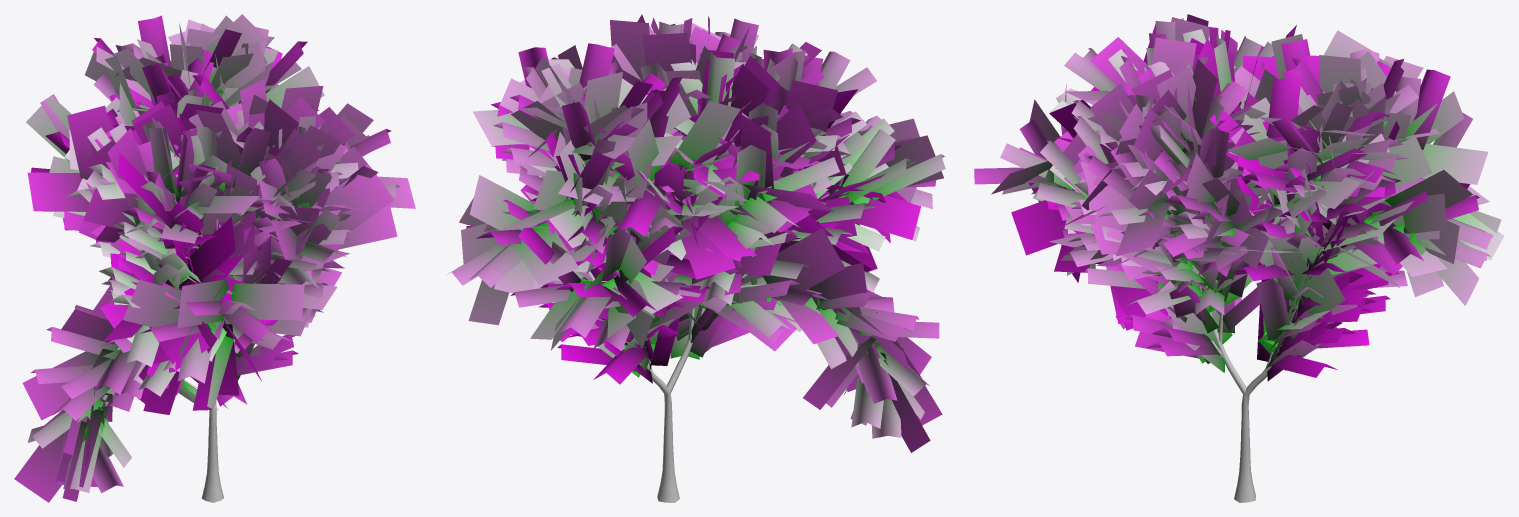
File: rowan_05.fbx
The picture shows the model from 3 angles, left to right: view 1: azimuth 30°, elevation 25°; view 2: azimuth 150°, elevation 25°; view 3: azimuth 270°, elevation 25°; orthographic projection. The views are drawn at different scales.
Visible parts, largest first — view 1: rowan_leaves_05_shadow, rowan_leaves_05_lod0, rowan_tree_05_lod0; view 2: rowan_leaves_05_shadow, rowan_leaves_05_lod0, rowan_tree_05_lod0; view 3: rowan_leaves_05_lod0, rowan_leaves_05_shadow, rowan_tree_05_lod0.
Part boxes in pixels (box(x1,y1,x2,y2)): rowan_leaves_05_shadow: box(14, 14, 415, 502); rowan_leaves_05_lod0: box(27, 15, 400, 493); rowan_tree_05_lod0: box(117, 101, 223, 502); rowan_leaves_05_shadow: box(459, 14, 943, 452); rowan_leaves_05_lod0: box(448, 18, 945, 438); rowan_tree_05_lod0: box(532, 166, 764, 502); rowan_leaves_05_lod0: box(974, 18, 1492, 381); rowan_leaves_05_shadow: box(991, 14, 1504, 370); rowan_tree_05_lod0: box(1168, 160, 1367, 502).
Size of what is drawn, in the model's own units: 7.93 by 8.9 by 9.3.
